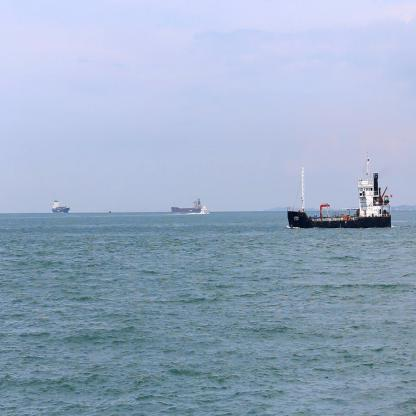Container Ship: (286, 151, 394, 231), (170, 194, 204, 216), (51, 196, 71, 214)
